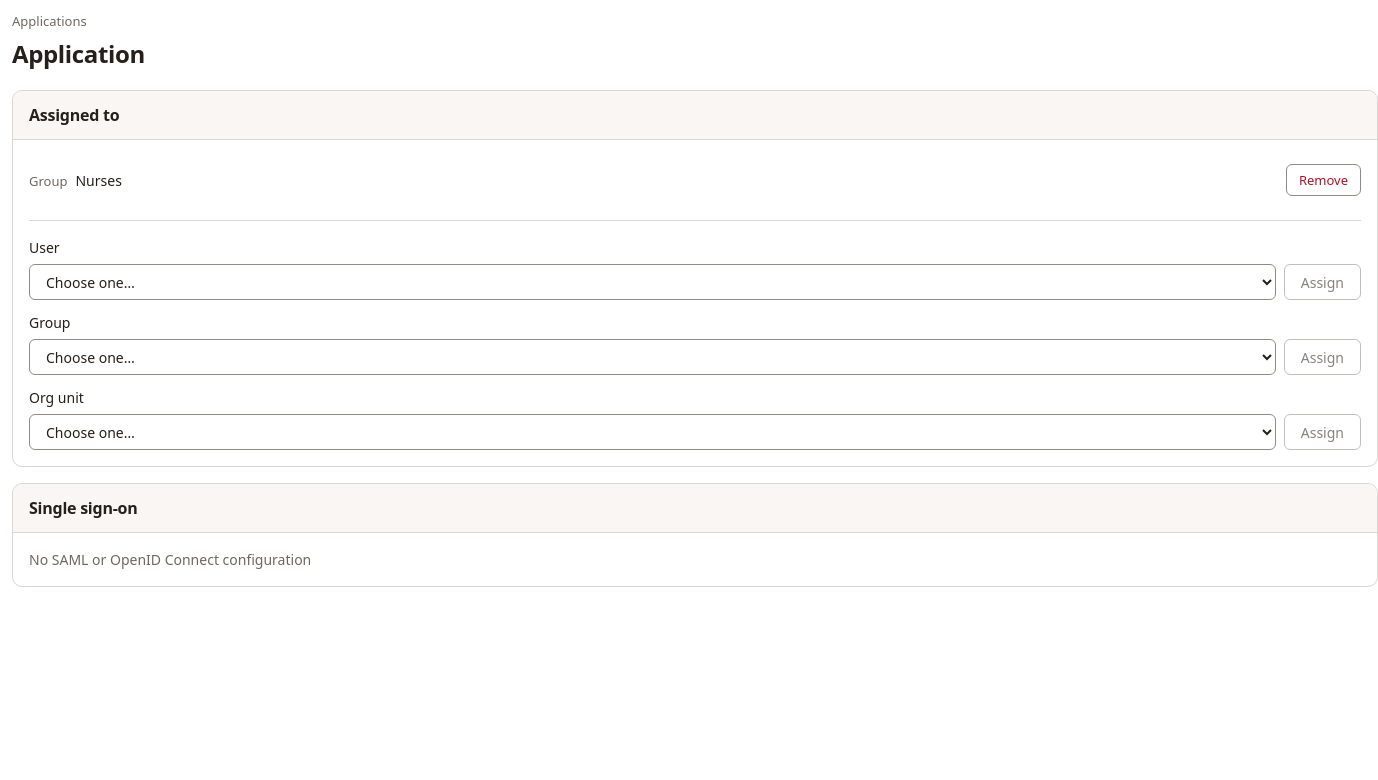
assignment controls › renders it for an assignment too
Select "Nurses" in the dropdown labelled "Group" at (652, 357), box [29,339,1276,375]
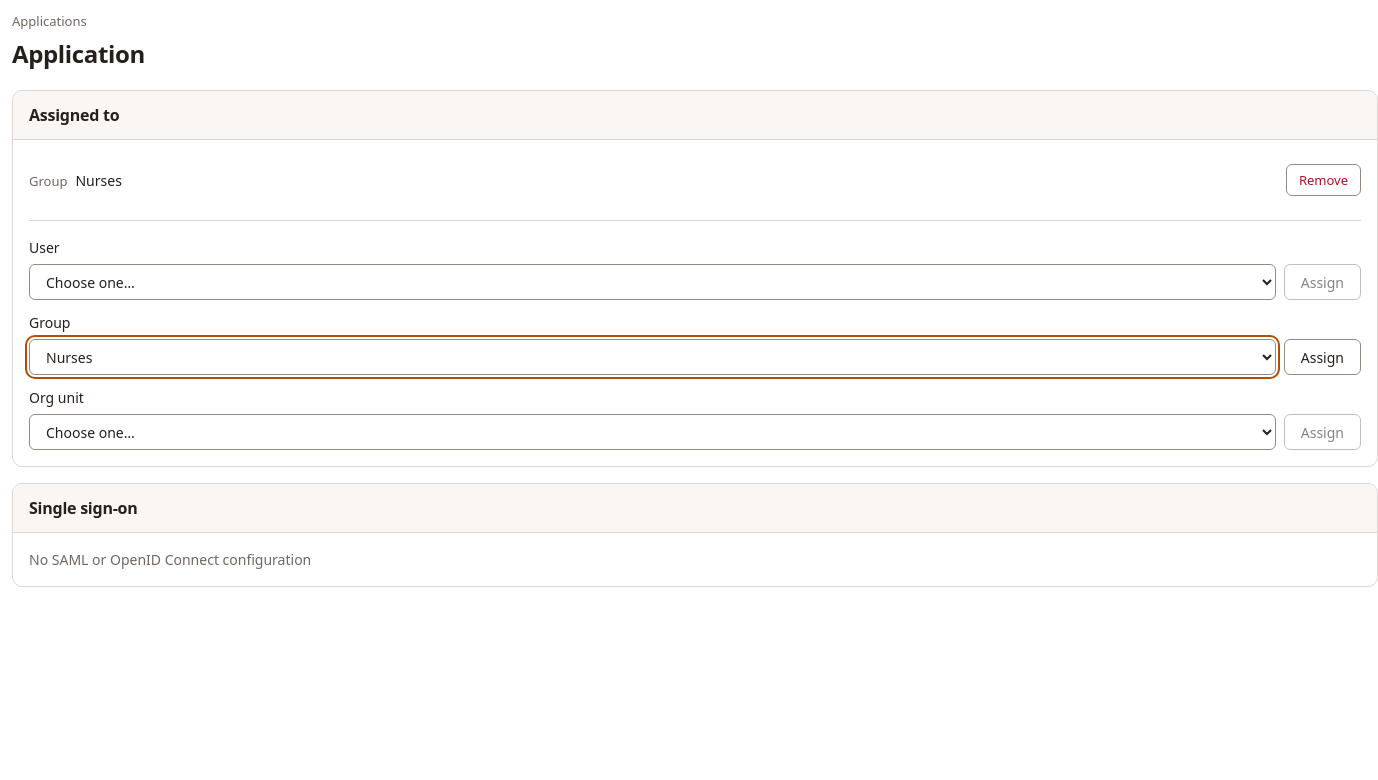
Click the 2nd button "Assign" at (1322, 357), box [1284,339,1361,375]
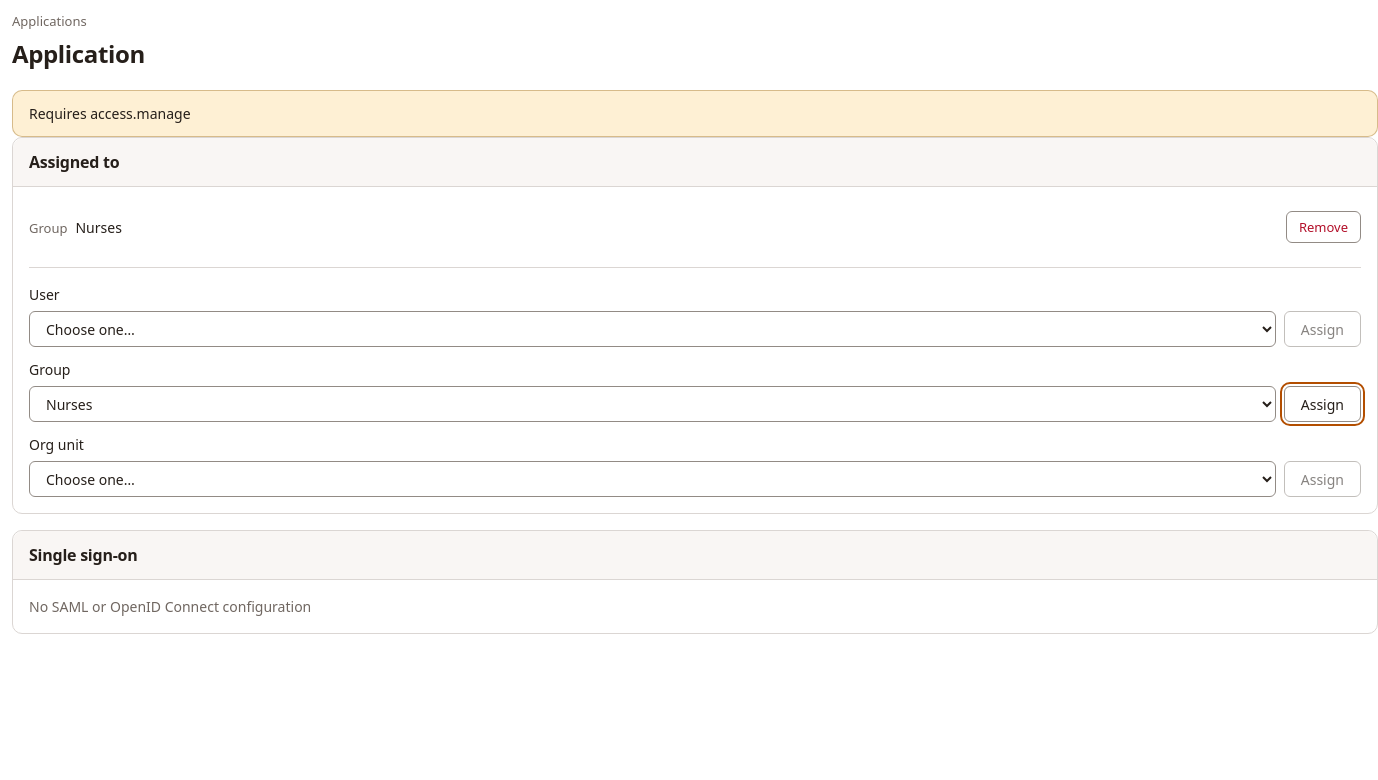
Now the text "Requires access.manage" is shown, box [29,104,190,123]
